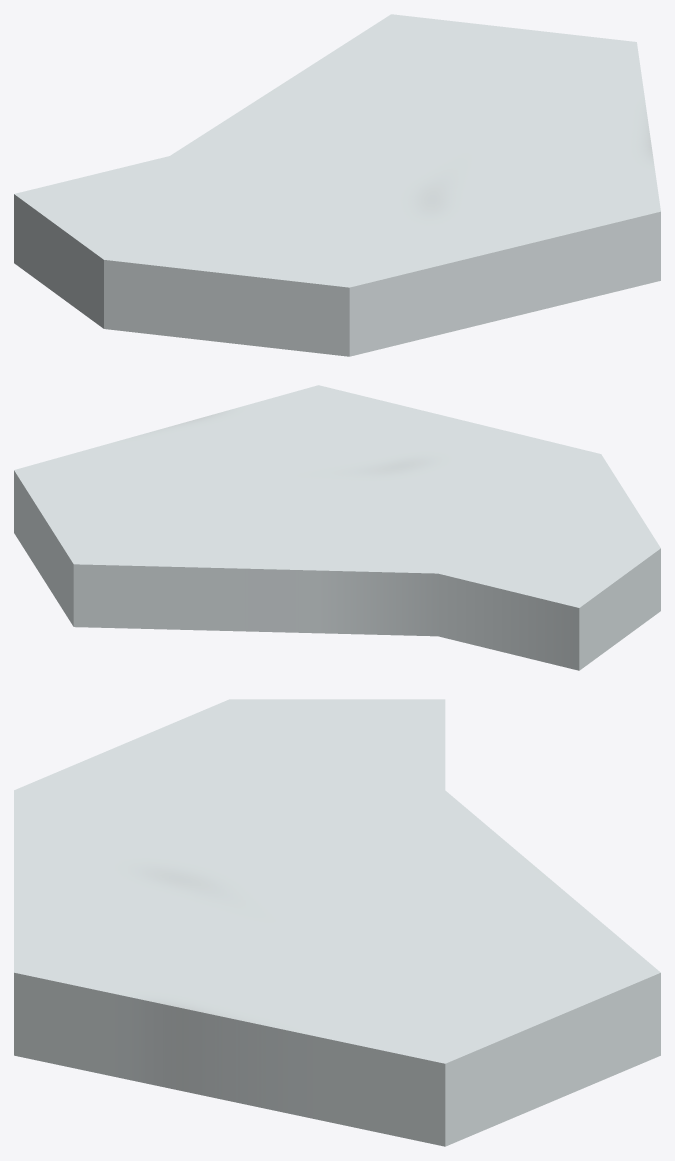
The model's file is ice6.glb.
3 views of the same model, one above another, from view 1: azimuth 30°, elevation 25°; view 2: azimuth 150°, elevation 25°; view 3: azimuth 270°, elevation 25° (orthographic). The views are drawn at different scales.
Parts seen in each view (by area): view 1: ice_05; view 2: ice_05; view 3: ice_05.
Boxes of the visible parts, x1,y1,x2,y2 form: ice_05: (14, 14, 660, 356); ice_05: (14, 385, 660, 670); ice_05: (14, 699, 660, 1146).
Bounding box in the file's own units: 2.83 × 0.3002 × 2.12.
1 material, 1 textured.
